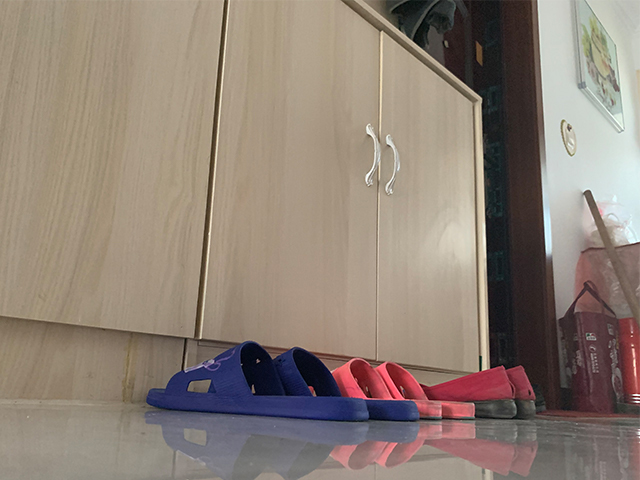cabinet: (1, 1, 493, 406)
carpet: (538, 409, 640, 419)
slippers: (145, 342, 373, 423), (311, 356, 439, 419)
